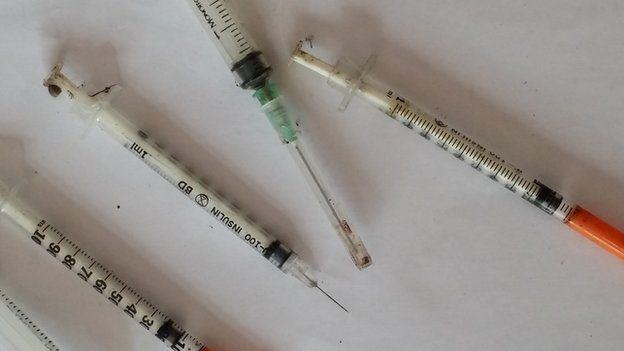Syringe: (44, 66, 343, 308), (292, 43, 623, 257), (188, 0, 371, 268), (0, 181, 209, 350), (0, 290, 59, 350)
